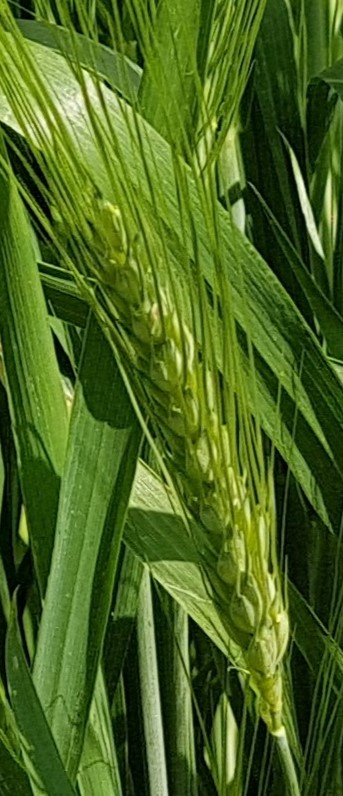Healthy Wheat: (42, 177, 303, 709)
